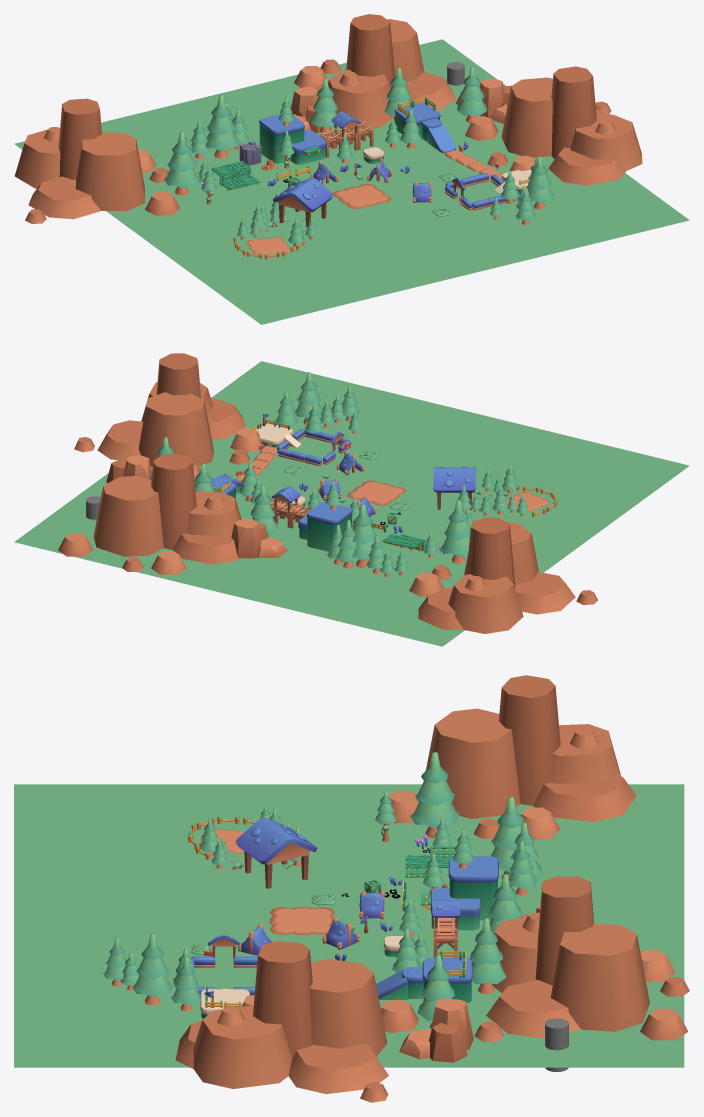
The model's file is environment.glb.
The picture shows the model from 3 angles, top to bottom: view 1: azimuth 30°, elevation 25°; view 2: azimuth 150°, elevation 25°; view 3: azimuth 270°, elevation 25°; orthographic projection. The views are drawn at different scales.
Parts seen in each view (by area): view 1: Plane, stones (2), stones (3), stones (1), building-roof (1), block-grass-large-tall, tree (19), tree (13), rocks (1), tree (6), patch-dirt, tree (5) (+8 smaller); view 2: Plane, stones (1), stones (3), stones (2), rocks, block-grass-large-tall, building-roof (1), tree (19), tree (13), patch-dirt, rocks (1), tree (10) (+4 smaller); view 3: Plane, stones (2), stones (3), stones (1), rocks (1), building-roof (1), tree (19), block-grass-large-tall, tree (13) (×2), tree (4), patch-dirt, tree (10) (+12 smaller).
Boxes of the visible parts, x1=… form: Plane: x1=14, y1=39, x2=689, y2=324; stones (2): x1=465, y1=66, x2=642, y2=185; stones (3): x1=14, y1=98, x2=179, y2=223; stones (1): x1=294, y1=14, x2=461, y2=128; building-roof (1): x1=272, y1=177, x2=332, y2=227; block-grass-large-tall: x1=259, y1=113, x2=305, y2=163; tree (19): x1=164, y1=131, x2=199, y2=195; tree (13): x1=205, y1=94, x2=239, y2=158; rocks (1): x1=480, y1=78, x2=511, y2=123; tree (6): x1=457, y1=67, x2=487, y2=122; patch-dirt: x1=332, y1=184, x2=391, y2=208; tree (5): x1=310, y1=78, x2=337, y2=133; Plane: x1=14, y1=361, x2=689, y2=646; stones (1): x1=58, y1=453, x2=241, y2=574; stones (3): x1=409, y1=517, x2=597, y2=633; stones (2): x1=74, y1=353, x2=261, y2=479; rocks: x1=231, y1=519, x2=287, y2=558; block-grass-large-tall: x1=306, y1=502, x2=352, y2=551; building-roof (1): x1=433, y1=466, x2=475, y2=509; tree (19): x1=440, y1=500, x2=470, y2=563; tree (13): x1=352, y1=504, x2=377, y2=567; patch-dirt: x1=347, y1=480, x2=405, y2=505; rocks (1): x1=106, y1=455, x2=152, y2=482; tree (10): x1=295, y1=372, x2=323, y2=424; Plane: x1=14, y1=784, x2=684, y2=1067; stones (2): x1=175, y1=941, x2=418, y2=1102; stones (3): x1=389, y1=675, x2=636, y2=839; stones (1): x1=474, y1=876, x2=689, y2=1041; rocks (1): x1=399, y1=998, x2=473, y2=1062; building-roof (1): x1=235, y1=817, x2=317, y2=888; tree (19): x1=410, y1=752, x2=459, y2=838; block-grass-large-tall: x1=448, y1=856, x2=498, y2=920; tree (13) (×2): x1=103, y1=796, x2=524, y2=986; tree (4): x1=470, y1=917, x2=506, y2=993; patch-dirt: x1=269, y1=907, x2=334, y2=934; tree (10): x1=132, y1=933, x2=172, y2=1005.
Size of the model in its own units: 35.93 by 5.78 by 28.13.
Materials: 18 (16 with a texture image).
